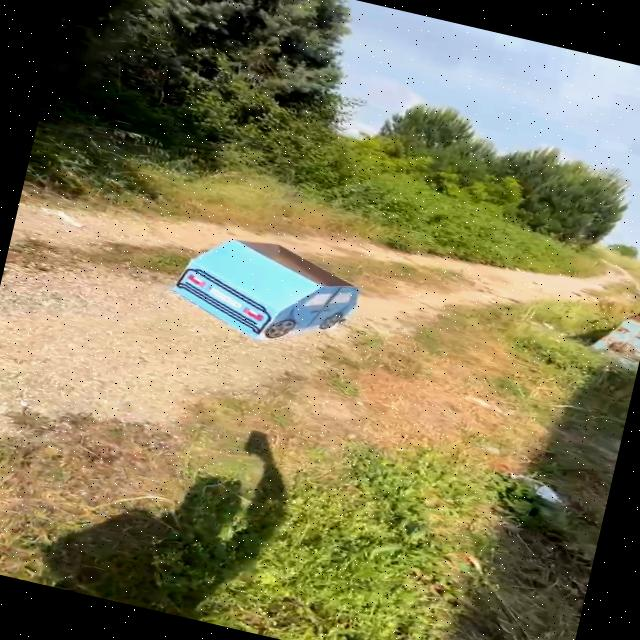blue_car: (136, 208, 387, 374)
